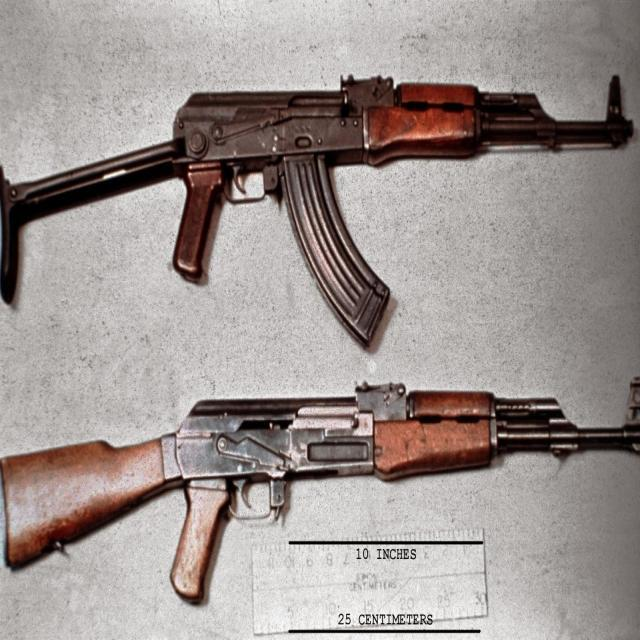ak: (0, 61, 636, 352), (8, 372, 640, 606)
